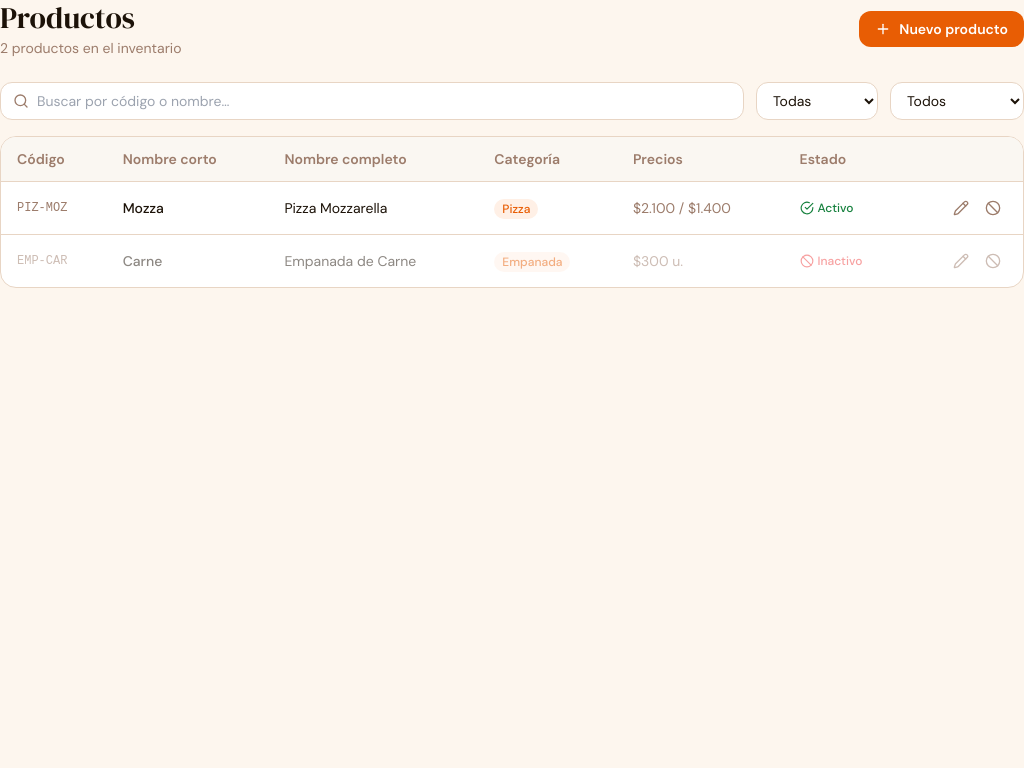
Test: ProductosPage › el campo código está deshabilitado al editar
Expected: the table with test id "tabla-productos" is shown, [1,137,1023,287]
Click the button with test id "btn-editar-0".
click(961, 208)  # box [947,194,975,222]
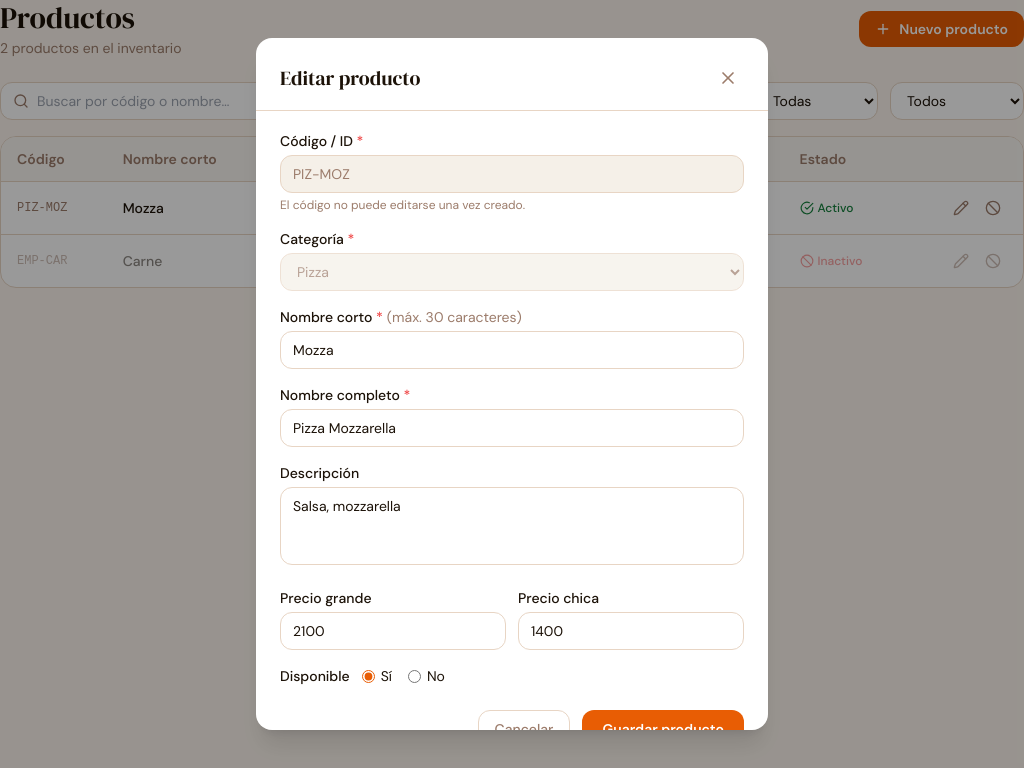
Now the field with test id "input-codigo" is disabled, box [280,155,744,193]
